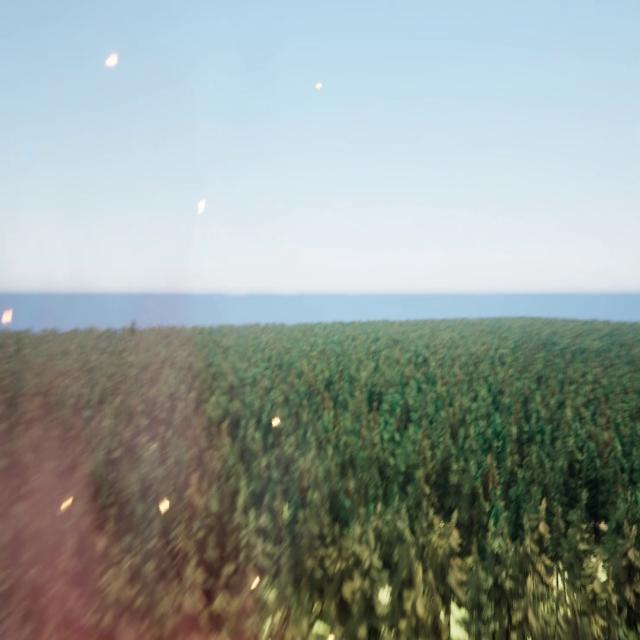smoke: (0, 322, 225, 639)
